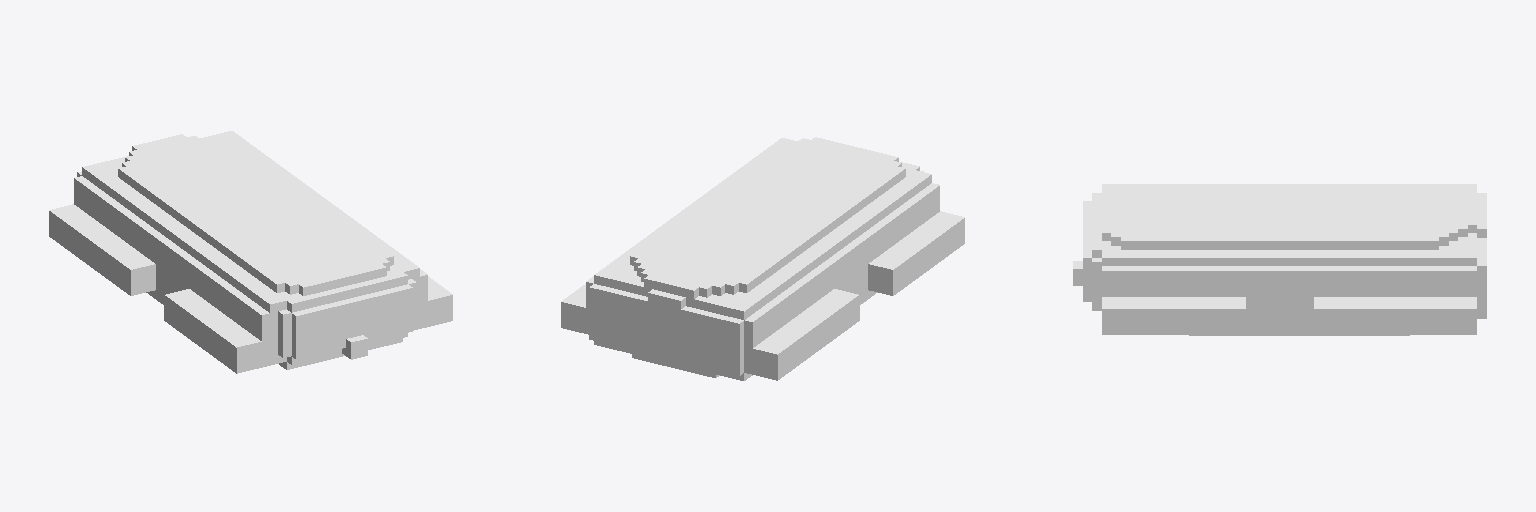
The model's file is Motor.obj.
3 views of the same model, side by side, from view 1: azimuth 30°, elevation 25°; view 2: azimuth 150°, elevation 25°; view 3: azimuth 270°, elevation 25° (orthographic).
Visible parts, largest first — view 1: object 1; view 2: object 1; view 3: object 1.
Boxes of the visible parts, box(x1,y1,x2,y2) form: object 1: box(49, 131, 452, 373); object 1: box(561, 137, 964, 380); object 1: box(1073, 184, 1486, 335).
Bounding box in the file's own units: 2.6 × 1 × 4.3.